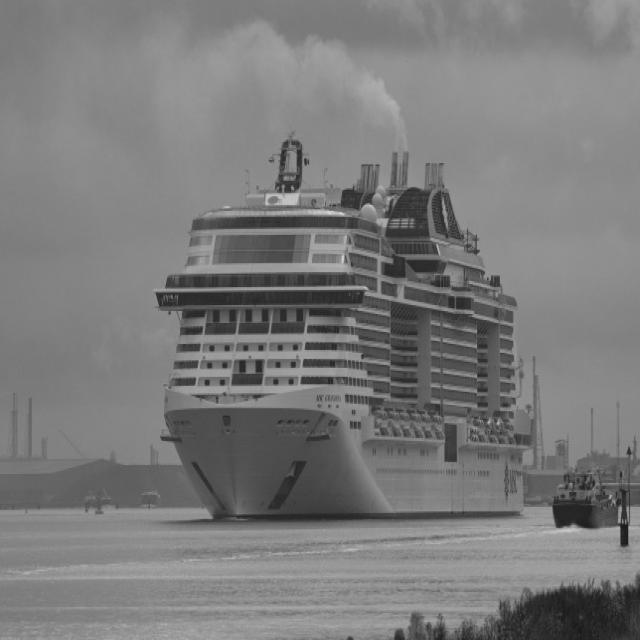cruises: (147, 130, 542, 535)
